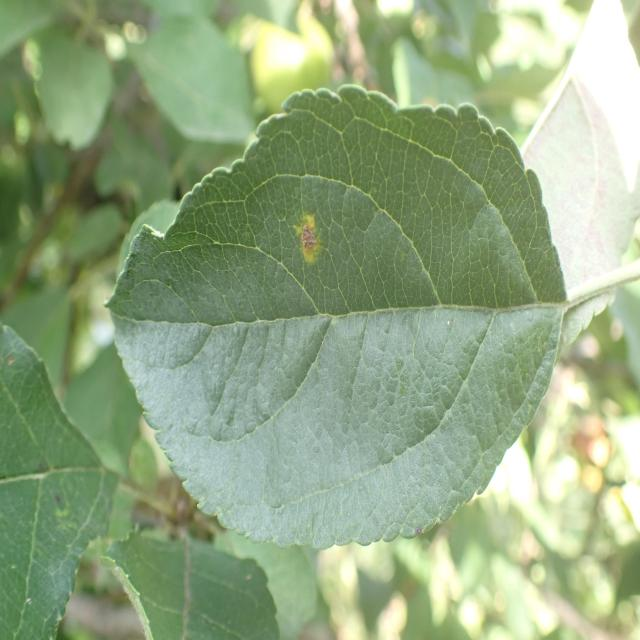Rust: (290, 206, 326, 273)
